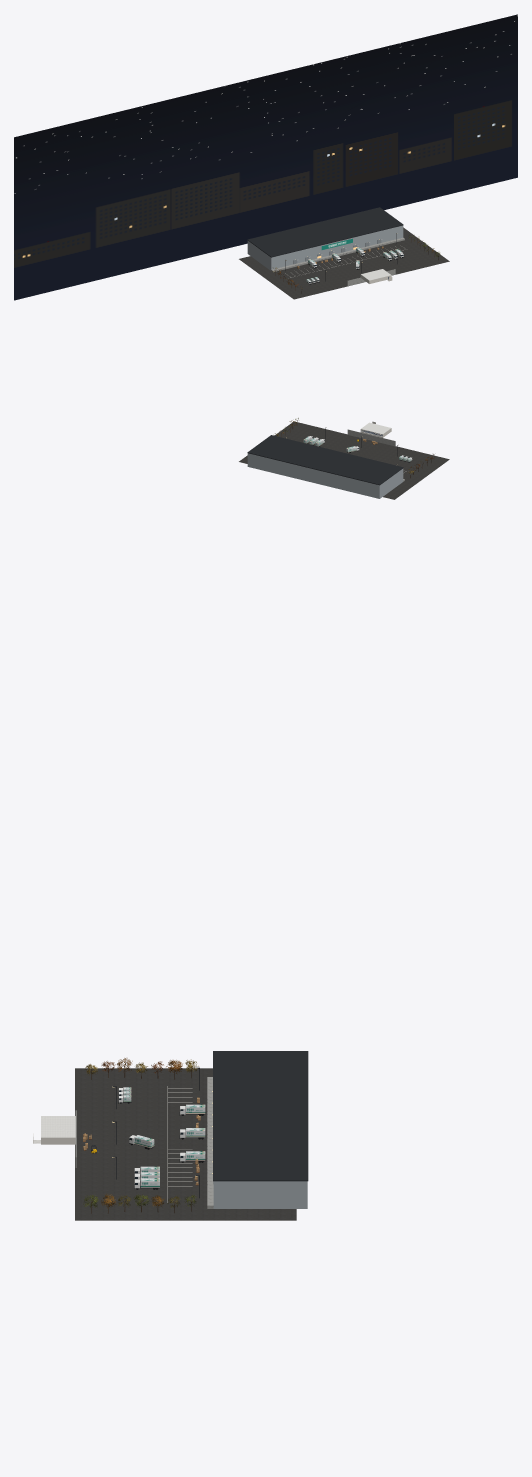
The model's file is office.glb.
3 renders of one model, top to bottom at view 1: azimuth 30°, elevation 25°; view 2: azimuth 150°, elevation 25°; view 3: azimuth 270°, elevation 25°, orthographic. The views are drawn at different scales.
Parts seen in each view (by area): view 1: Mesh~95, Mesh~60, Mesh~64, Mesh~63, Mesh~61; view 2: Mesh~60, Mesh~64, Mesh~63; view 3: Mesh~60, Mesh~64, Mesh~63, Mesh~94, Mesh~73, Mesh~61.
Part boxes in pixels (<box>): Mesh~95: <box>14,14,517,300</box>; Mesh~60: <box>239,227,449,299</box>; Mesh~64: <box>247,207,403,284</box>; Mesh~63: <box>247,225,403,270</box>; Mesh~61: <box>271,237,404,285</box>; Mesh~60: <box>239,421,449,499</box>; Mesh~64: <box>247,427,408,485</box>; Mesh~63: <box>247,453,403,498</box>; Mesh~60: <box>75,1068,296,1220</box>; Mesh~64: <box>91,1051,308,1198</box>; Mesh~63: <box>213,1181,307,1208</box>; Mesh~94: <box>83,1058,198,1208</box>; Mesh~73: <box>123,1087,205,1187</box>; Mesh~61: <box>75,1077,213,1208</box>.
Size of the model in its own units: 420 by 130 by 168.
75 materials, 37 textured.
